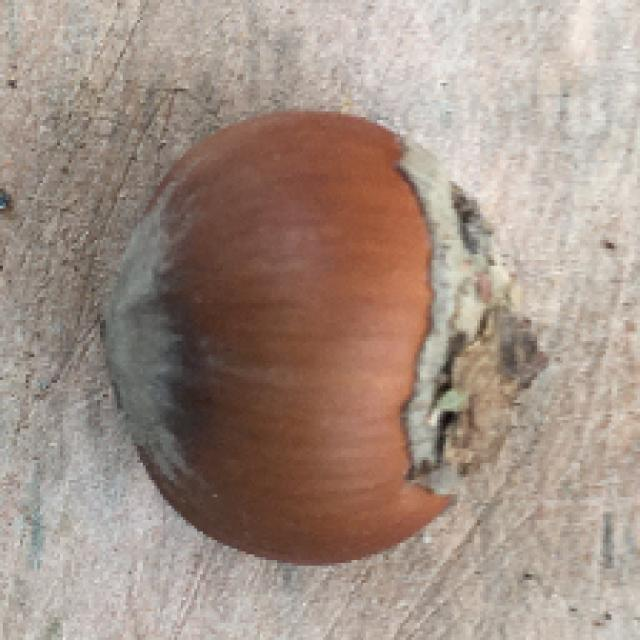damagedHazelnut: (92, 91, 543, 564)
